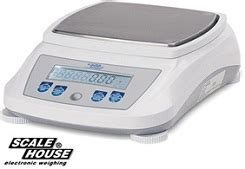Industrial Scale: (1, 1, 241, 143)
